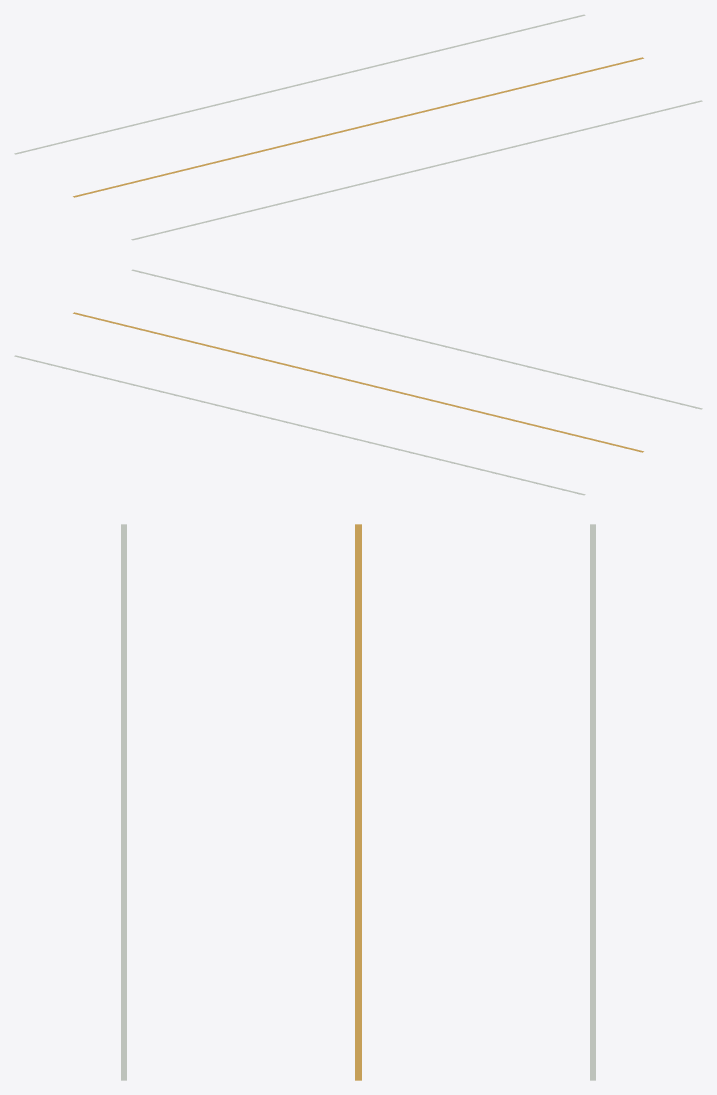
File: RoadPlan_DeckMarking_2L_L16.glb
The picture shows the model from 3 angles, top to bottom: view 1: azimuth 30°, elevation 25°; view 2: azimuth 150°, elevation 25°; view 3: azimuth 270°, elevation 25°; orthographic projection. The views are drawn at different scales.
Parts seen in each view (by area): view 1: RoadPlan_DeckMarking_2L_L16_Center, RoadPlan_DeckMarking_2L_L16_EdgeRight, RoadPlan_DeckMarking_2L_L16_EdgeLeft; view 2: RoadPlan_DeckMarking_2L_L16_Center, RoadPlan_DeckMarking_2L_L16_EdgeRight, RoadPlan_DeckMarking_2L_L16_EdgeLeft; view 3: RoadPlan_DeckMarking_2L_L16_Center, RoadPlan_DeckMarking_2L_L16_EdgeRight, RoadPlan_DeckMarking_2L_L16_EdgeLeft.
Part boxes in pixels (bbox=[...]): RoadPlan_DeckMarking_2L_L16_Center: bbox=[73, 57, 643, 197]; RoadPlan_DeckMarking_2L_L16_EdgeRight: bbox=[131, 100, 702, 240]; RoadPlan_DeckMarking_2L_L16_EdgeLeft: bbox=[14, 14, 585, 154]; RoadPlan_DeckMarking_2L_L16_Center: bbox=[73, 312, 643, 452]; RoadPlan_DeckMarking_2L_L16_EdgeRight: bbox=[131, 269, 702, 409]; RoadPlan_DeckMarking_2L_L16_EdgeLeft: bbox=[14, 355, 585, 495]; RoadPlan_DeckMarking_2L_L16_Center: bbox=[355, 524, 361, 1080]; RoadPlan_DeckMarking_2L_L16_EdgeRight: bbox=[121, 524, 126, 1080]; RoadPlan_DeckMarking_2L_L16_EdgeLeft: bbox=[590, 524, 595, 1080].
Bounding box in the file's own units: 16 × 0.0007 × 5.78.
